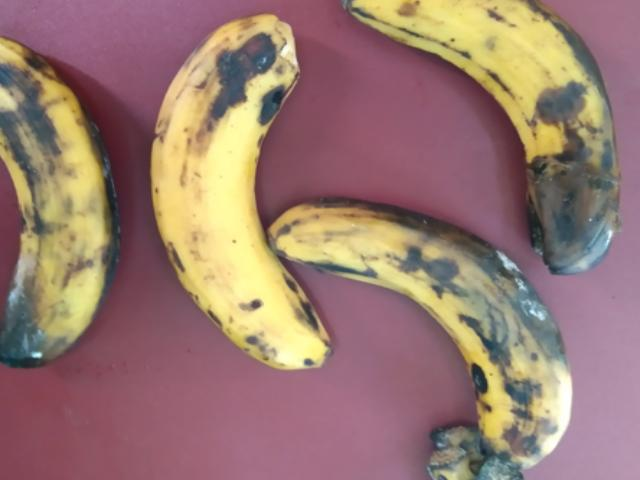overripe: (108, 11, 344, 414)
rotten: (271, 190, 585, 479), (346, 3, 629, 290), (0, 33, 142, 393)
